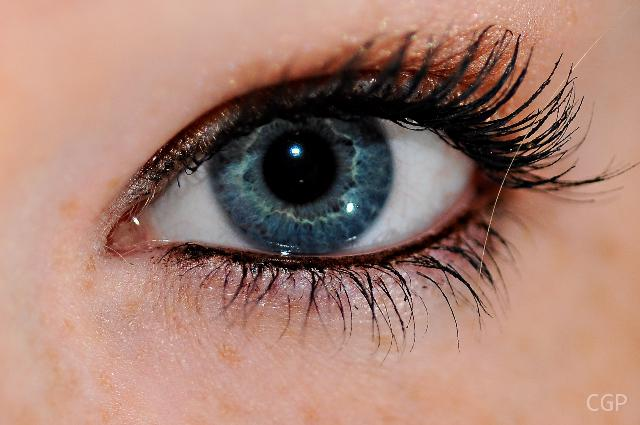eye: (207, 87, 396, 259)
